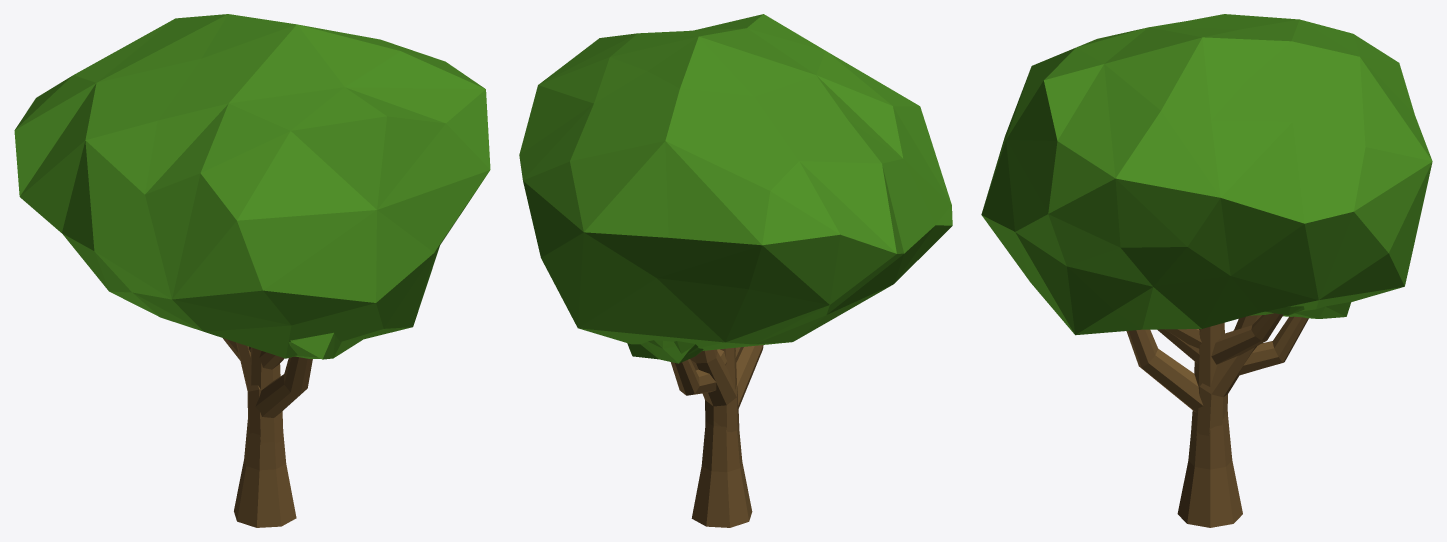
Rendered from arvore2.fbx.
The picture shows the model from 3 angles, left to right: view 1: azimuth 30°, elevation 25°; view 2: azimuth 150°, elevation 25°; view 3: azimuth 270°, elevation 25°; orthographic projection. The views are drawn at different scales.
Parts seen in each view (by area): view 1: Icosphere.001, Cylinder.002, Cylinder, Icosphere.003, Cylinder.001; view 2: Icosphere.001, Cylinder.002, Cylinder, Icosphere.004; view 3: Icosphere.001, Cylinder.002, Cylinder.001, Cylinder, Icosphere.004.
Boxes of the visible parts, box(x1,y1,x2,y2) form: Icosphere.001: box(14, 14, 490, 358); Cylinder.002: box(223, 338, 312, 527); Cylinder: box(236, 342, 283, 444); Icosphere.003: box(288, 332, 366, 359); Cylinder.001: box(250, 347, 284, 391); Icosphere.001: box(519, 14, 952, 350); Cylinder.002: box(671, 345, 763, 527); Cylinder: box(690, 349, 739, 435); Icosphere.004: box(627, 340, 703, 363); Icosphere.001: box(981, 14, 1432, 335); Cylinder.002: box(1126, 316, 1308, 527); Cylinder.001: box(1157, 313, 1283, 418); Cylinder: box(1165, 315, 1261, 440); Icosphere.004: box(1283, 302, 1351, 318).
Bounding box in the file's own units: 1264 × 1472 × 1228.
